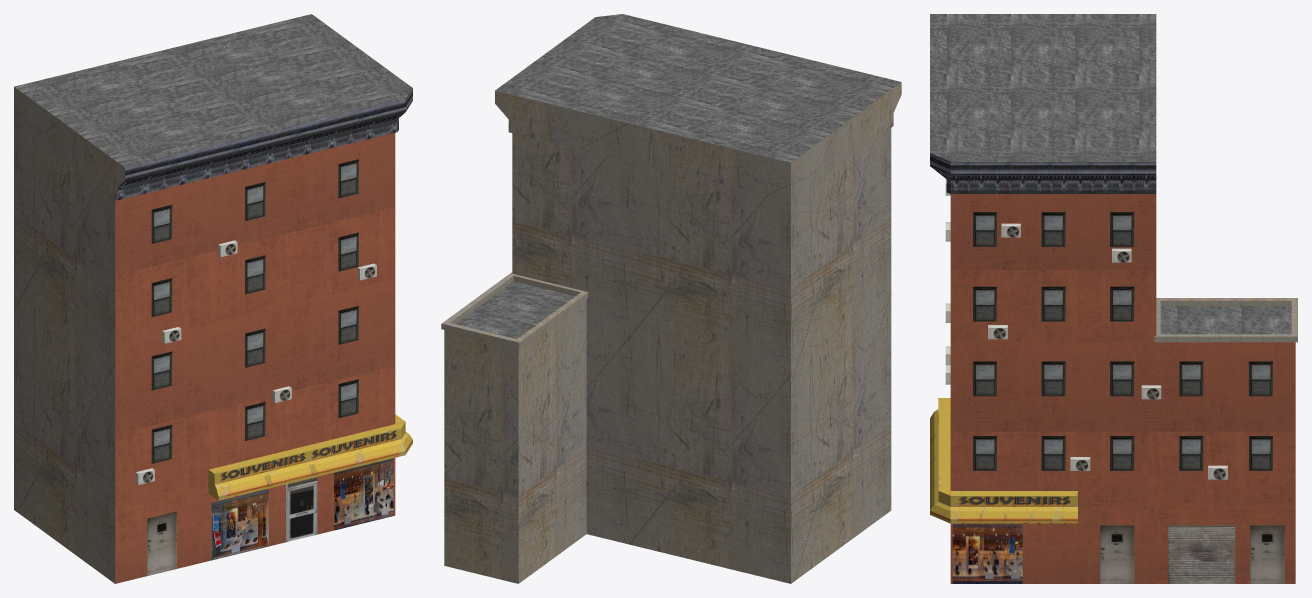
The model's file is psx_building.glb.
The picture shows the model from 3 angles, left to right: view 1: azimuth 30°, elevation 25°; view 2: azimuth 150°, elevation 25°; view 3: azimuth 270°, elevation 25°; orthographic projection. The views are drawn at different scales.
Visible parts, largest first — view 1: PSX NYC Building; view 2: PSX NYC Building; view 3: PSX NYC Building.
Boxes of the visible parts, left/top/right/bottom form: PSX NYC Building: left=14, top=14, right=412, bottom=583; PSX NYC Building: left=441, top=14, right=901, bottom=583; PSX NYC Building: left=930, top=14, right=1297, bottom=583.
Size of the model in its own units: 8.5 by 11.55 by 8.94.
13 materials, 13 textured.
